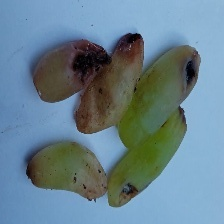grapes: (38, 0, 187, 200)
